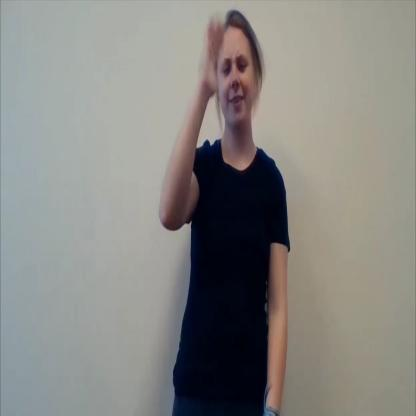Hello: (174, 0, 276, 177)
